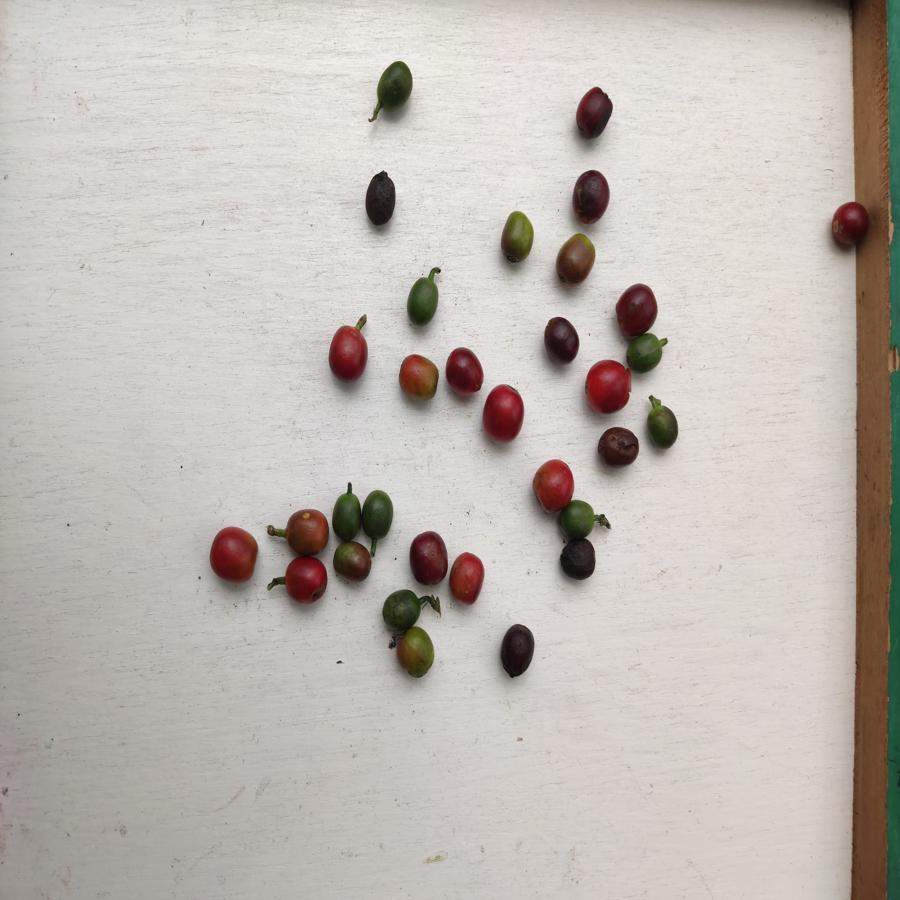Inmaduro: (372, 58, 414, 110), (358, 486, 398, 539), (404, 276, 443, 326), (643, 401, 680, 450), (626, 333, 667, 374), (381, 589, 423, 627), (558, 499, 598, 538), (331, 491, 362, 541)
Maduro: (210, 528, 263, 585), (582, 357, 630, 417), (481, 383, 528, 441), (328, 323, 371, 385), (530, 454, 576, 503), (446, 550, 487, 604), (281, 554, 327, 602), (446, 346, 483, 396)
Pinton: (277, 506, 330, 555), (396, 349, 441, 404), (552, 231, 596, 285), (397, 627, 437, 681), (498, 210, 537, 265), (328, 543, 377, 583)
Sobremaduro: (569, 169, 611, 225), (407, 529, 446, 585), (596, 424, 641, 472), (615, 285, 658, 333), (577, 88, 616, 140), (363, 172, 398, 229), (500, 624, 536, 679), (541, 318, 581, 363), (557, 540, 598, 582), (829, 204, 866, 249)
